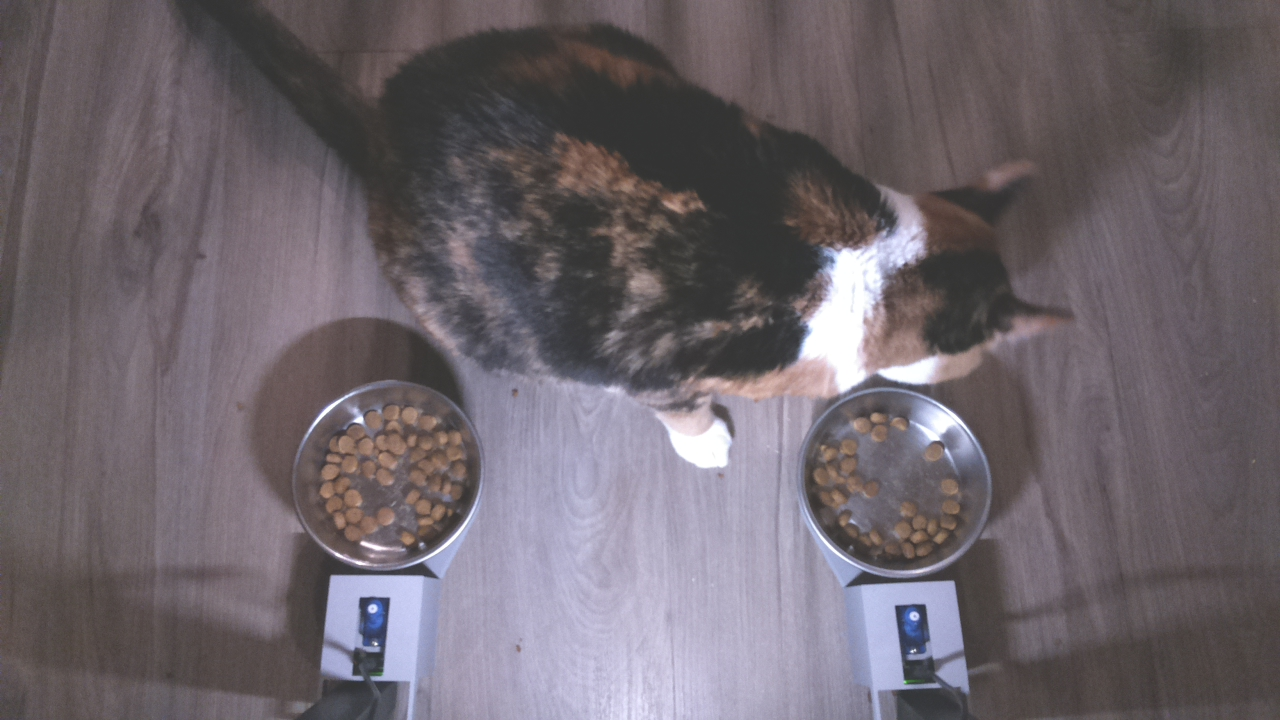bella: (814, 137, 1086, 392)
open_bowl: (286, 373, 491, 576), (792, 382, 992, 579)
